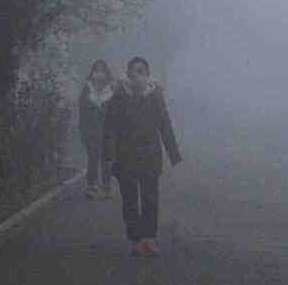person: (101, 57, 186, 260), (77, 55, 121, 203)
